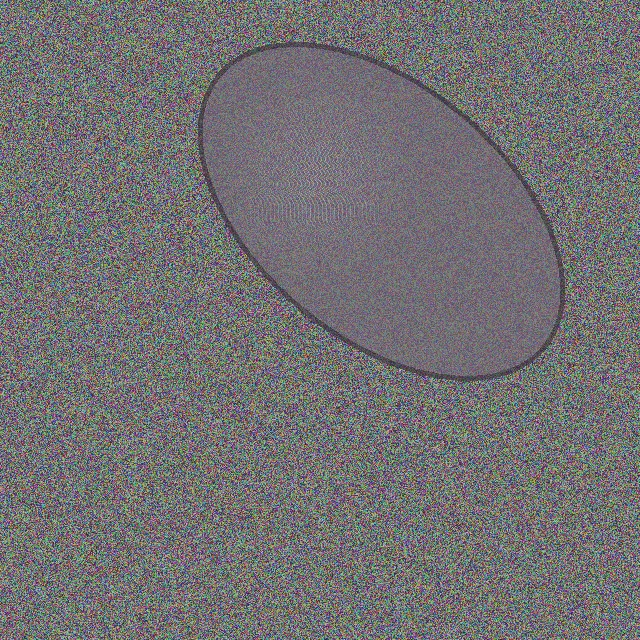lens: (200, 45, 562, 377)
